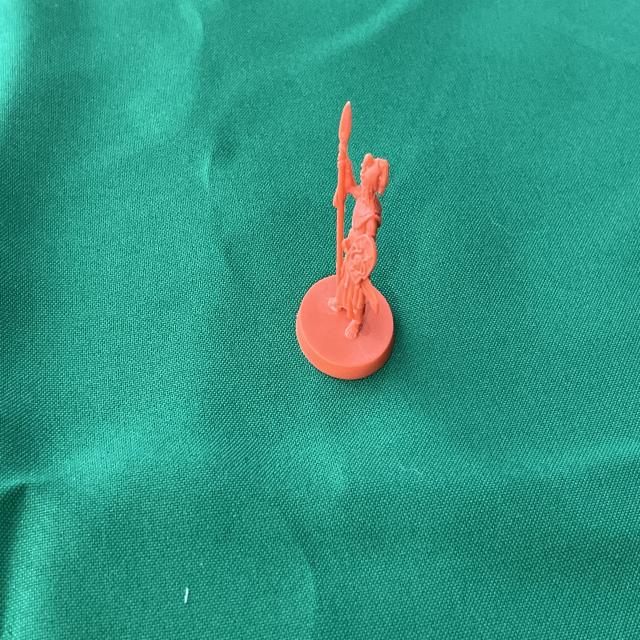amon_follower: (296, 102, 394, 380)
